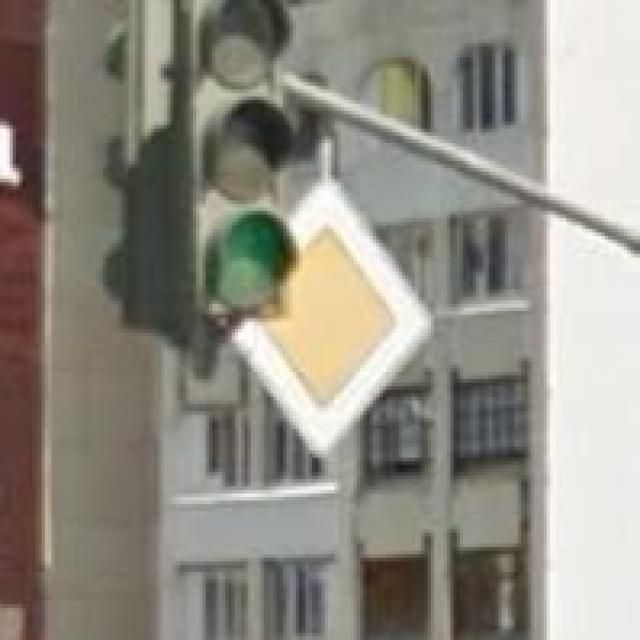traffic_sign: (225, 175, 438, 465)
